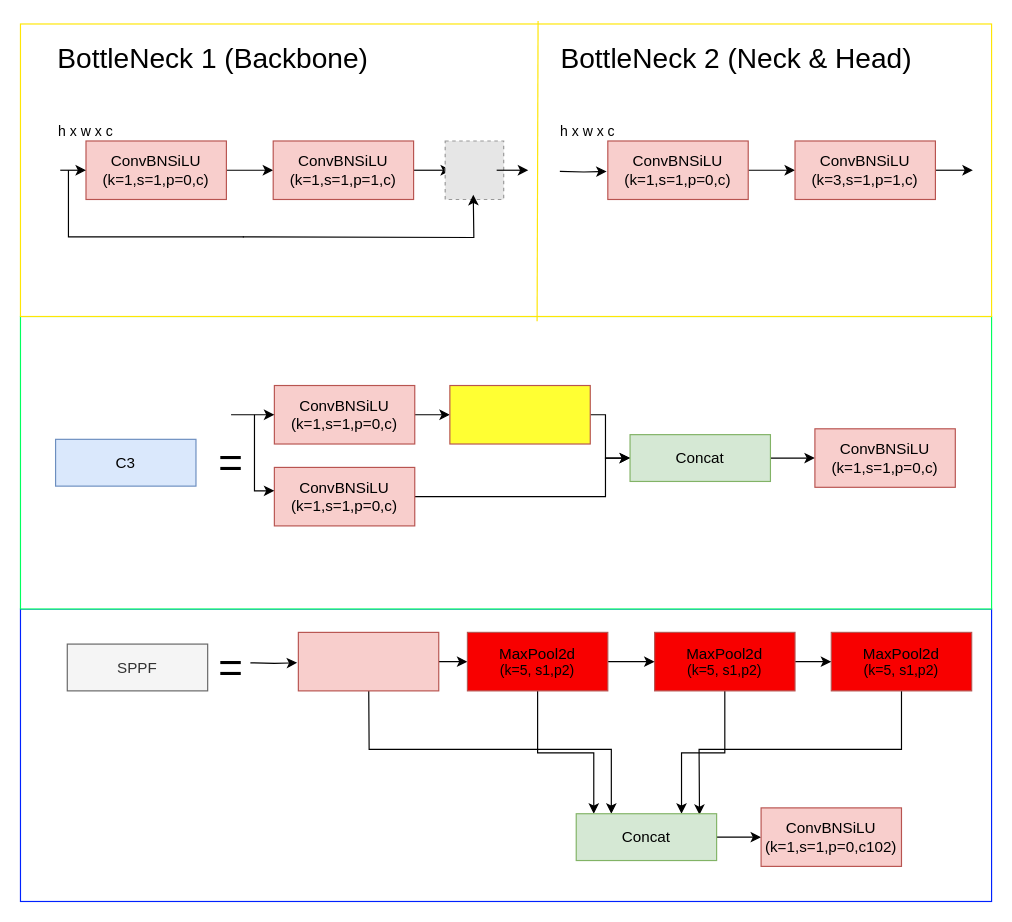
Some shapes in this 1012 by 922 pixel diagram are drawn without their labels. Grey dashed boxes stand in for pictures. The centre of each missing label's shape, as x and y in pixels:
BottleNeck: (519,414)
ConvBNSiLU (k=1,s=1,p=0,c512): (368,661)
